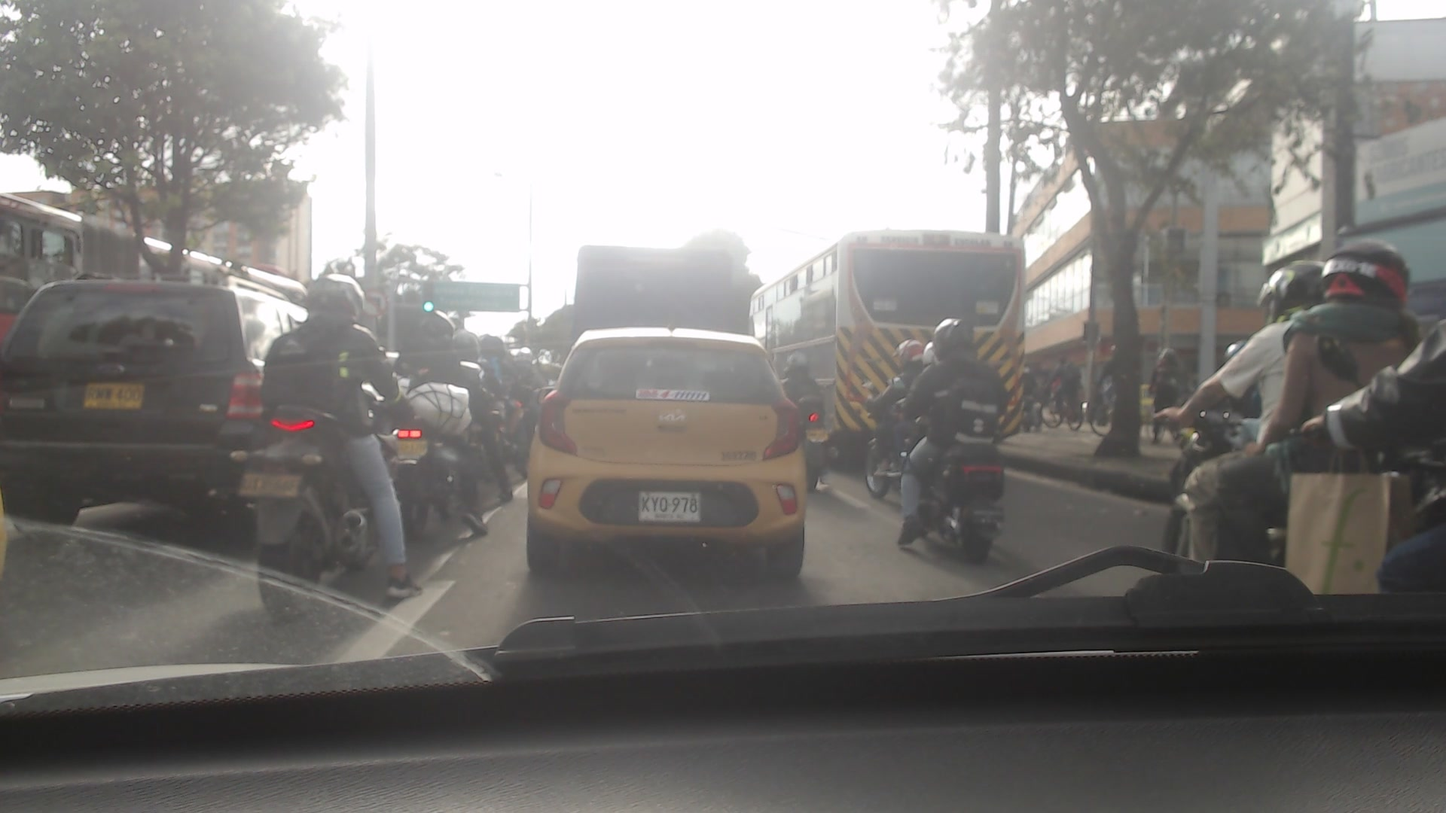bus: (740, 229, 1018, 443)
car: (6, 277, 322, 553), (519, 324, 813, 593)
motorcycle: (218, 408, 420, 621), (904, 424, 1000, 563), (386, 419, 493, 538)
person: (264, 276, 427, 607), (914, 318, 1005, 549), (392, 297, 480, 530), (868, 336, 933, 432), (1152, 342, 1187, 444)
truck: (564, 233, 747, 354)
